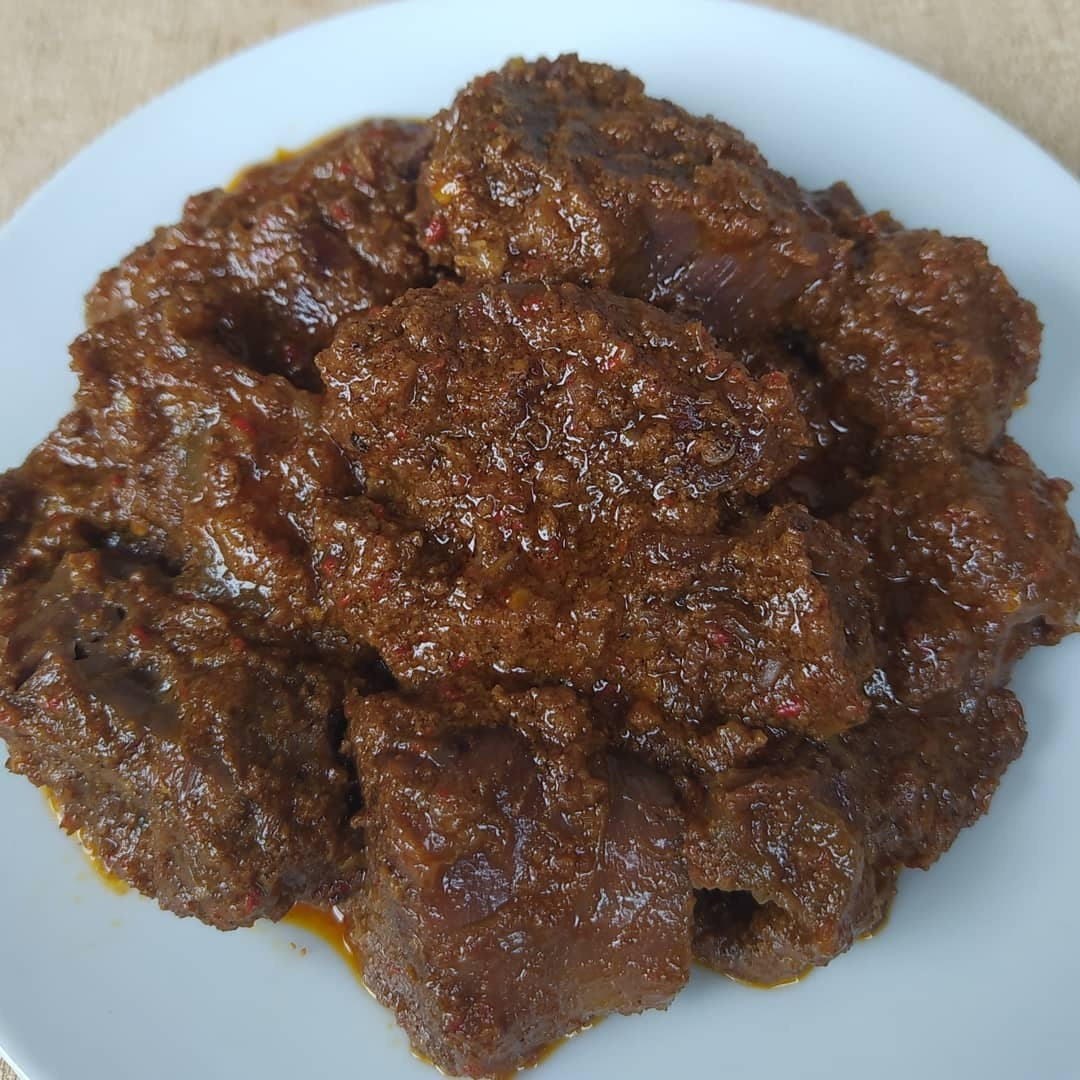rendang: (21, 78, 1080, 1073)
